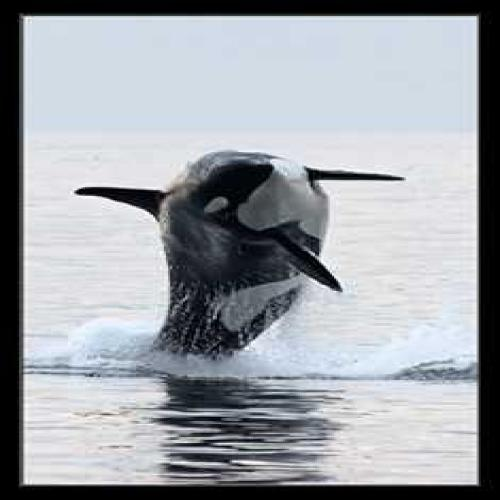killer_whale-endangered: (74, 119, 410, 371)
